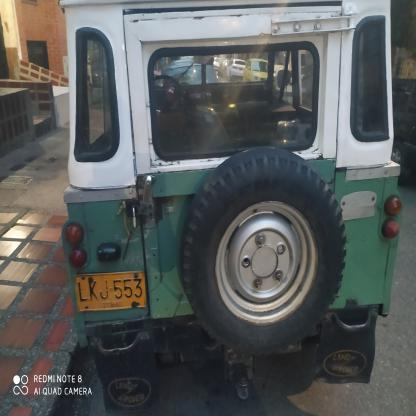placa: (70, 269, 150, 315)
